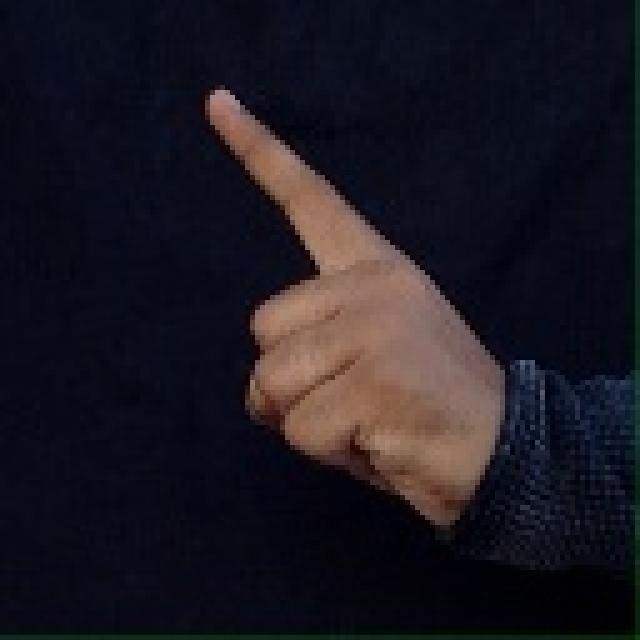Alphabet-I: (194, 69, 517, 543)
